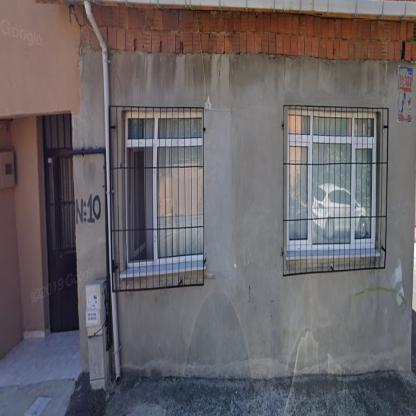door: (45, 154, 78, 328)
window: (128, 115, 202, 266), (290, 115, 374, 246), (45, 118, 72, 146)
